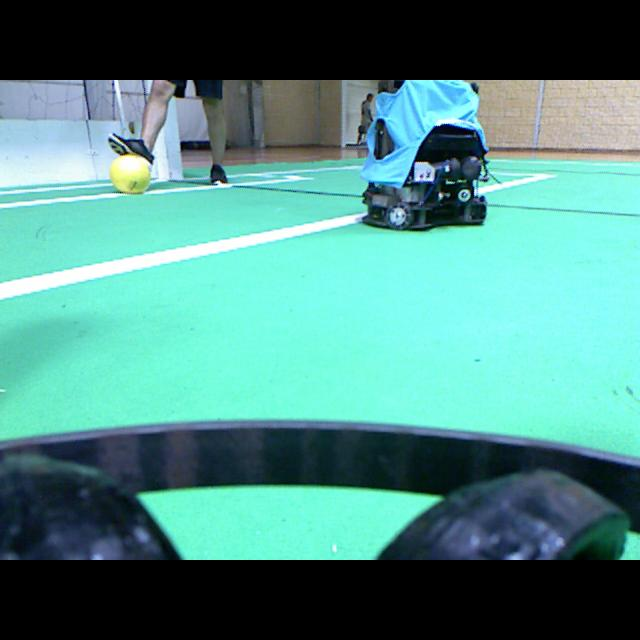ball: (109, 155, 149, 193)
goal: (164, 99, 182, 178)
